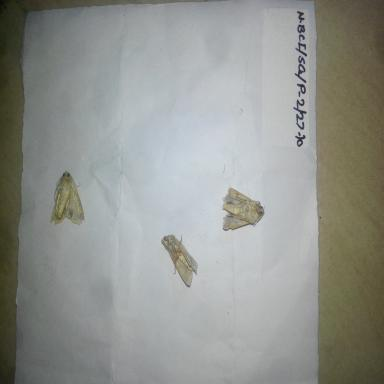abw: (219, 183, 266, 241), (159, 231, 204, 290), (47, 166, 86, 231)
